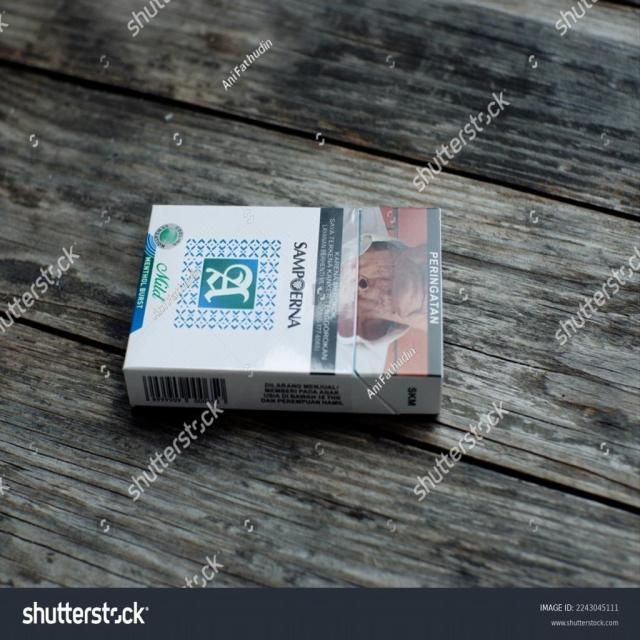smoking: (120, 202, 447, 427)
